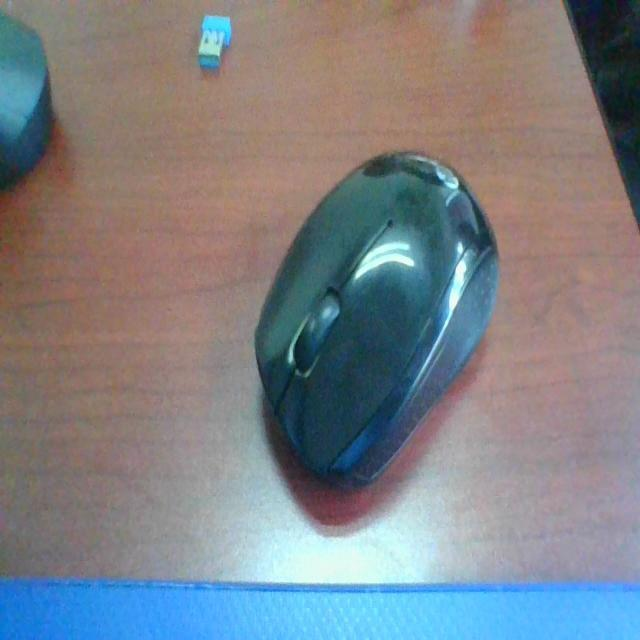mouse: (249, 151, 511, 550)
